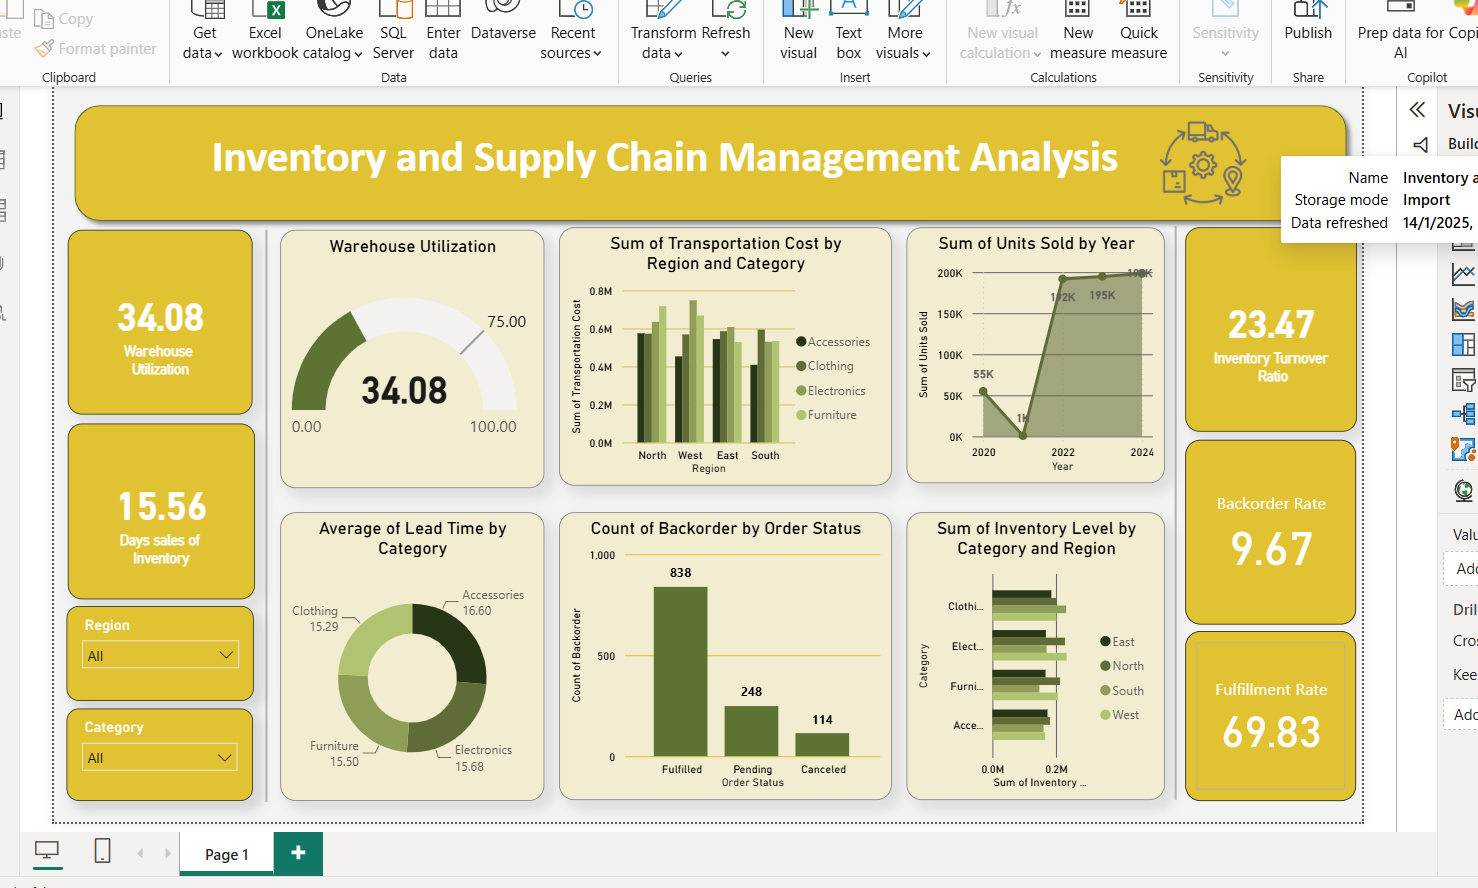

This screenshot's page, from the dashboard's own definition file:
{"tool":"powerbi","page":{"name":"Page 1","canvas":[1280,720],"ordinal":0},"visuals":[{"type":"shape","box":[11.2,10,1262.5,131.2],"z":0},{"type":"textbox","box":[133.7,38.2,928.7,74.9],"z":1000},{"type":"shape","box":[200.7,141.2,14.5,559.7],"z":2000},{"type":"card","fields":{"Values":["Inventory and Supply Chain Dataset.Warehouse Utilization"]},"box":[13,141,181,181],"z":3000},{"type":"card","fields":{"Values":["Inventory and Supply Chain Dataset.Days sales of Inventory"]},"box":[13,330,183,172],"z":4000},{"type":"card","fields":{"Values":["Inventory and Supply Chain Dataset.Inventory Turnover Ratio"]},"box":[1106.7,137.8,167.8,200],"z":5000},{"type":"slicer","fields":{"Values":["Inventory and Supply Chain Dataset.Region"]},"box":[12.2,508.7,183.4,92.9],"z":6000},{"type":"slicer","fields":{"Values":["Inventory and Supply Chain Dataset.Category"]},"box":[12,609,182,90],"z":7000},{"type":"gauge","fields":{"Y":["Inventory and Supply Chain Dataset.Warehouse Utilization"]},"box":[221.3,137,258,256.8],"z":8000},{"type":"clusteredColumnChart","fields":{"Category":["Inventory and Supply Chain Dataset.Region"],"Series":["Inventory and Supply Chain Dataset.Category"],"Y":["Sum(Inventory and Supply Chain Dataset.Transportation Cost)"]},"box":[494,138.2,325.3,253.1],"z":9000},{"type":"lineChart","fields":{"Category":["Inventory and Supply Chain Dataset.Date.Variation.Date Hierarchy.Year"],"Y":["Sum(Inventory and Supply Chain Dataset.Units Sold)"]},"box":[834,138.2,253.1,250.7],"z":10000},{"type":"donutChart","fields":{"Category":["Inventory and Supply Chain Dataset.Category"],"Y":["Avg(Inventory and Supply Chain Dataset.Lead Time)"]},"box":[221.3,417,258,282.5],"z":11000},{"type":"columnChart","fields":{"Category":["Inventory and Supply Chain Dataset.Order Status"],"Y":["CountNonNull(Inventory and Supply Chain Dataset.Backorder)"]},"box":[494,417,325.3,281.3],"z":12000},{"type":"clusteredBarChart","fields":{"Category":["Inventory and Supply Chain Dataset.Category"],"Series":["Inventory and Supply Chain Dataset.Region"],"Y":["Sum(Inventory and Supply Chain Dataset.Inventory Level)"]},"box":[834,417,253.1,281.3],"z":13000},{"type":"image","box":[1061.4,13.5,129.6,124.7],"z":14000},{"type":"shape","box":[1050,137.5,93.8,561.2],"z":16000},{"type":"cardVisual","fields":{"Data":["Inventory and Supply Chain Dataset.Backorder Rate"]},"box":[1106.7,346.1,167.5,181],"z":17000},{"type":"cardVisual","fields":{"Data":["Inventory and Supply Chain Dataset.Fulfillment Rate"]},"box":[1106.2,533.8,167.5,166.2],"z":18000}]}

Visuals, with their boxes on the page's 1280x720 design canvas (x1, y1, x2, y2). These are canvas units, not pixel positions in the 1478x888 screenshot, which may show the page scaled, cropped or inside an application window:
shape: (left=11, top=10, right=1274, bottom=141)
textbox: (left=134, top=38, right=1062, bottom=113)
shape: (left=201, top=141, right=215, bottom=701)
card - Inventory and Supply Chain Dataset.Warehouse Utilization: (left=13, top=141, right=194, bottom=322)
card - Inventory and Supply Chain Dataset.Days sales of Inventory: (left=13, top=330, right=196, bottom=502)
card - Inventory and Supply Chain Dataset.Inventory Turnover Ratio: (left=1107, top=138, right=1274, bottom=338)
slicer - Inventory and Supply Chain Dataset.Region: (left=12, top=509, right=196, bottom=602)
slicer - Inventory and Supply Chain Dataset.Category: (left=12, top=609, right=194, bottom=699)
gauge - Inventory and Supply Chain Dataset.Warehouse Utilization: (left=221, top=137, right=479, bottom=394)
clusteredColumnChart - Inventory and Supply Chain Dataset.Region x Inventory and Supply Chain Dataset.Category: (left=494, top=138, right=819, bottom=391)
lineChart - Inventory and Supply Chain Dataset.Date.Variation.Date Hierarchy.Year x Sum(Inventory and Supply Chain Dataset.Units Sold): (left=834, top=138, right=1087, bottom=389)
donutChart - Inventory and Supply Chain Dataset.Category x Avg(Inventory and Supply Chain Dataset.Lead Time): (left=221, top=417, right=479, bottom=700)
columnChart - Inventory and Supply Chain Dataset.Order Status x CountNonNull(Inventory and Supply Chain Dataset.Backorder): (left=494, top=417, right=819, bottom=698)
clusteredBarChart - Inventory and Supply Chain Dataset.Category x Inventory and Supply Chain Dataset.Region: (left=834, top=417, right=1087, bottom=698)
image: (left=1061, top=14, right=1191, bottom=138)
shape: (left=1050, top=138, right=1144, bottom=699)
cardVisual - Inventory and Supply Chain Dataset.Backorder Rate: (left=1107, top=346, right=1274, bottom=527)
cardVisual - Inventory and Supply Chain Dataset.Fulfillment Rate: (left=1106, top=534, right=1274, bottom=700)
